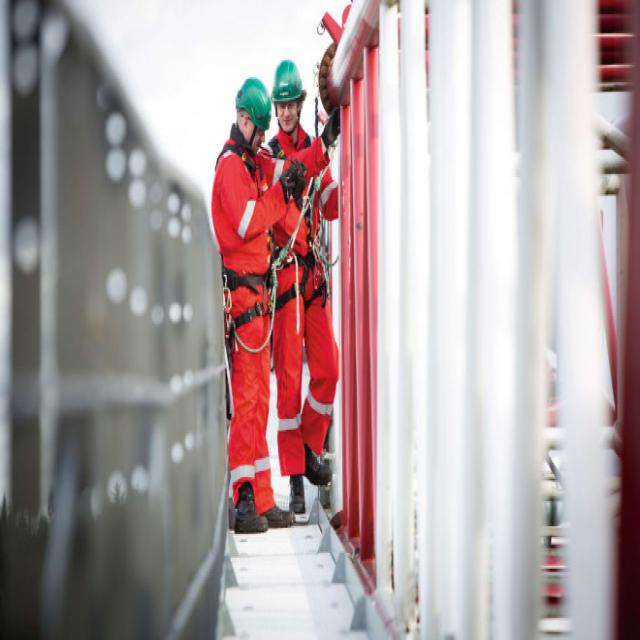vest: (212, 130, 286, 506), (273, 129, 340, 479)
